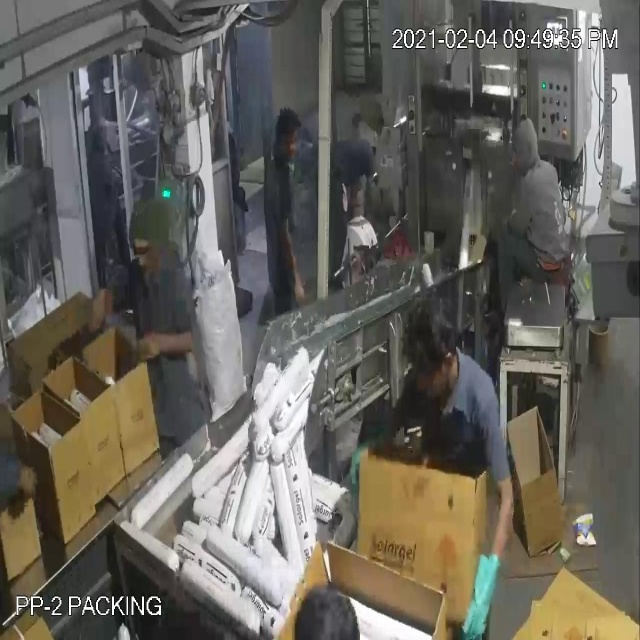Guantes: (461, 535, 513, 640)
Sin_guantes: (275, 201, 318, 323), (130, 316, 202, 377), (85, 282, 116, 340)
